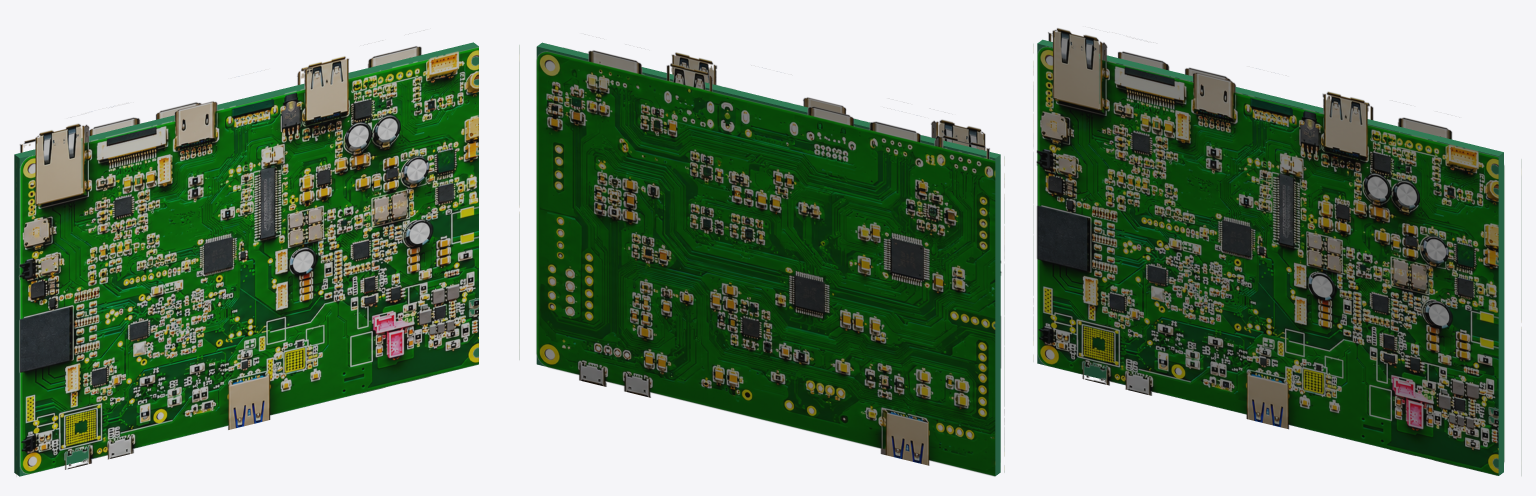
The model's file is RZG2N.glb.
The picture shows the model from 3 angles, left to right: view 1: azimuth 30°, elevation 25°; view 2: azimuth 150°, elevation 25°; view 3: azimuth 330°, elevation 25°; orthographic projection.
Parts seen in each view (by area): view 1: Front_Artwork_Outline_Registered, FR4_Board_Core, Rear_Artwork_Outline_Registered; view 2: Rear_Artwork_Outline_Registered, FR4_Board_Core, Front_Artwork_Outline_Registered; view 3: Front_Artwork_Outline_Registered, FR4_Board_Core, Rear_Artwork_Outline_Registered.
Part boxes in pixels (x1,y1,x2,y2): Front_Artwork_Outline_Registered: (19, 47, 478, 474); FR4_Board_Core: (14, 42, 478, 476); Rear_Artwork_Outline_Registered: (19, 46, 429, 461); Rear_Artwork_Outline_Registered: (519, 45, 995, 476); FR4_Board_Core: (536, 42, 1000, 475); Front_Artwork_Outline_Registered: (563, 47, 1004, 471); Front_Artwork_Outline_Registered: (1036, 28, 1498, 475); FR4_Board_Core: (1037, 39, 1503, 475); Rear_Artwork_Outline_Registered: (1048, 32, 1504, 466).
Size of the model in its own units: 1.67 by 1.17 by 0.033.
Materials: 2 (2 with a texture image).
